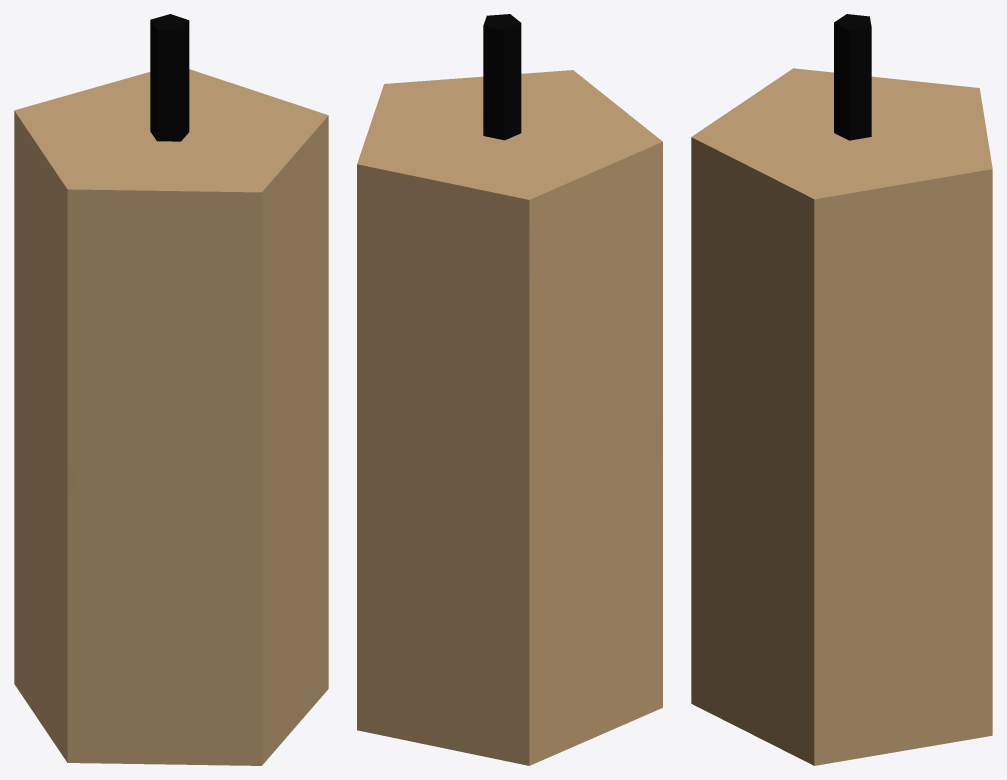
The model's file is Candle.fbx.
3 views of the same model, side by side, from view 1: azimuth 30°, elevation 25°; view 2: azimuth 150°, elevation 25°; view 3: azimuth 270°, elevation 25° (orthographic).
Parts seen in each view (by area): view 1: Swieca; view 2: Swieca; view 3: Swieca.
Boxes of the visible parts, x1,y1,x2,y2 form: Swieca: (14,14,328,765); Swieca: (357,14,662,765); Swieca: (691,14,992,765).
Bounding box in the file's own units: 10.85 × 26.13 × 10.55.
Materials: 1 (1 with a texture image).
